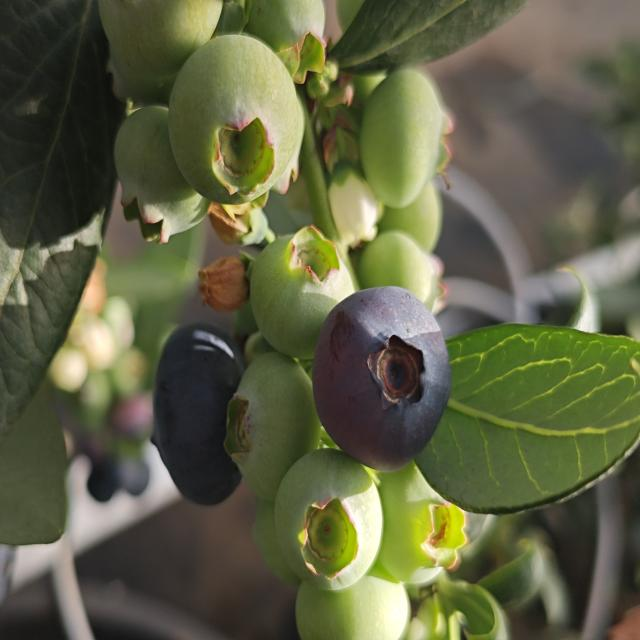ripe: (311, 283, 454, 473), (136, 324, 236, 512)
